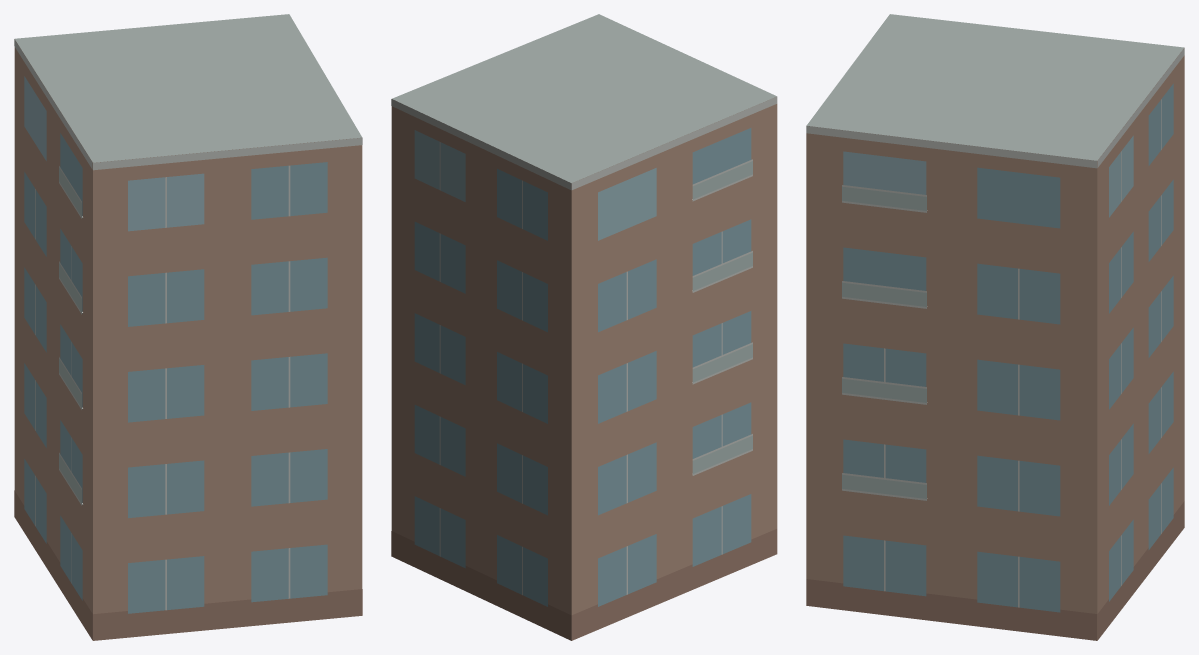
Rendered from survey-upis-32892113.glb.
3 renders of one model, left to right at view 1: azimuth 30°, elevation 25°; view 2: azimuth 150°, elevation 25°; view 3: azimuth 270°, elevation 25°, orthographic. The views are drawn at different scales.
Visible parts, largest first — view 1: survey-upis-32892113.tmp; view 2: survey-upis-32892113.tmp; view 3: survey-upis-32892113.tmp.
Boxes of the visible parts, x1,y1,x2,y2 form: survey-upis-32892113.tmp: (14, 14, 362, 640); survey-upis-32892113.tmp: (391, 14, 777, 640); survey-upis-32892113.tmp: (806, 14, 1184, 640).
Bounding box in the file's own units: 10.18 × 15.5 × 11.08.
